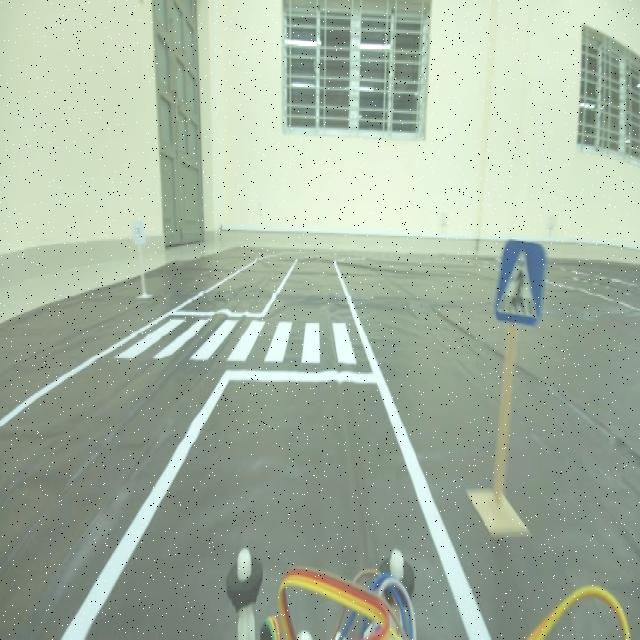crosswalk: (492, 228, 550, 341)
